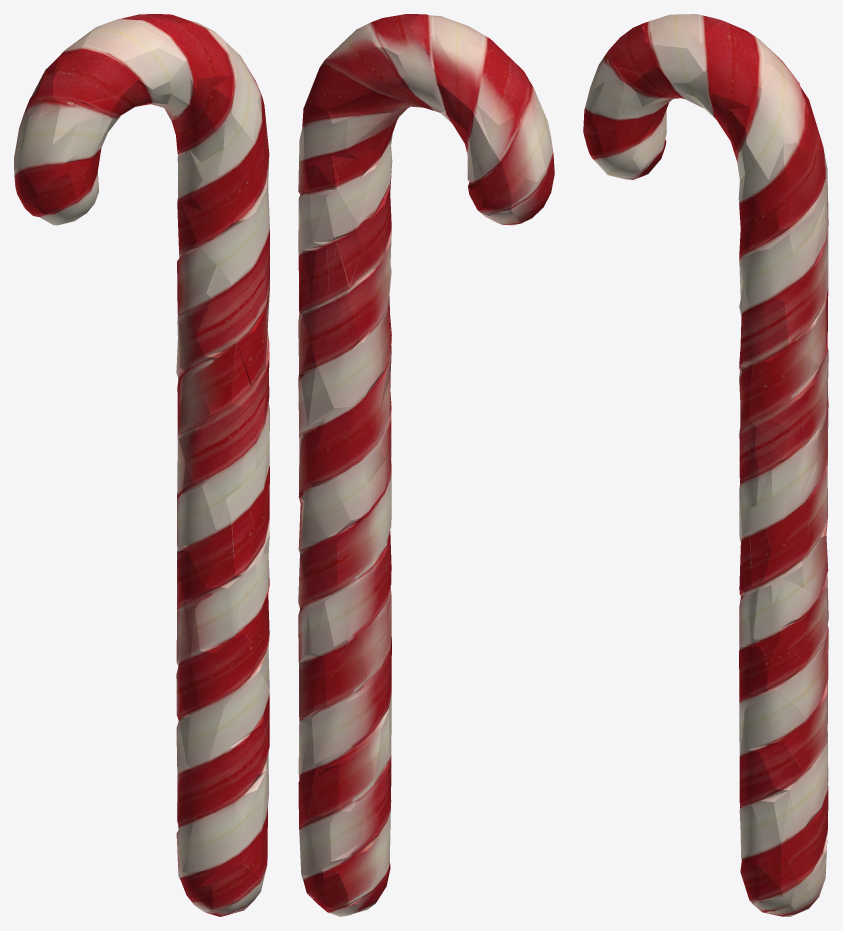
File: obstacle-candy-cane.glb
3 renders of one model, left to right at view 1: azimuth 30°, elevation 25°; view 2: azimuth 150°, elevation 25°; view 3: azimuth 330°, elevation 25°, orthographic. The views are drawn at different scales.
Parts seen in each view (by area): view 1: output_unwrapped; view 2: output_unwrapped; view 3: output_unwrapped.
Part boxes in pixels (x1,y1,x2,y2): output_unwrapped: [14, 14, 269, 916]; output_unwrapped: [298, 14, 554, 916]; output_unwrapped: [583, 14, 828, 916].
Size of the model in its own units: 0.53 by 1.9 by 0.1814.
1 material, 1 textured.
